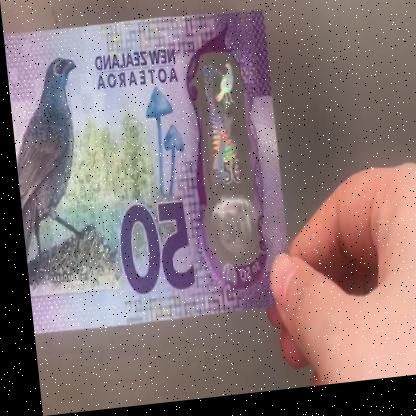50B: (193, 62, 255, 264)
